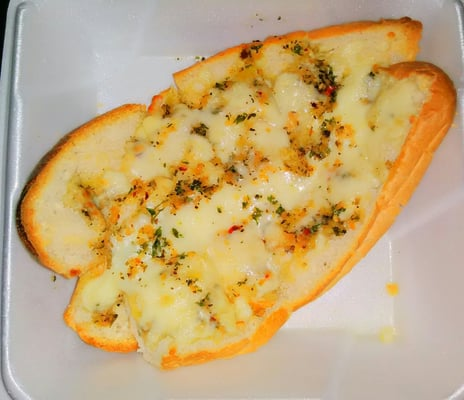sandwich: (17, 31, 448, 371)
